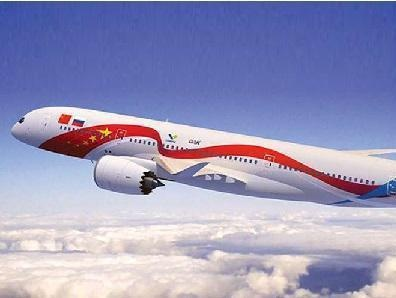airplane: (8, 102, 396, 211)
